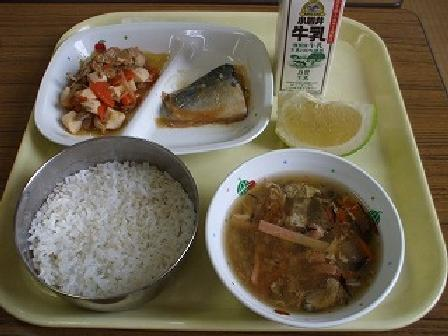Fish: (160, 50, 253, 140)
Milk: (273, 0, 349, 95)
Rice: (13, 134, 206, 313)
Soups: (222, 157, 401, 311)
cooked food meat with vegetables: (42, 30, 154, 137)
lime: (269, 87, 380, 157)
